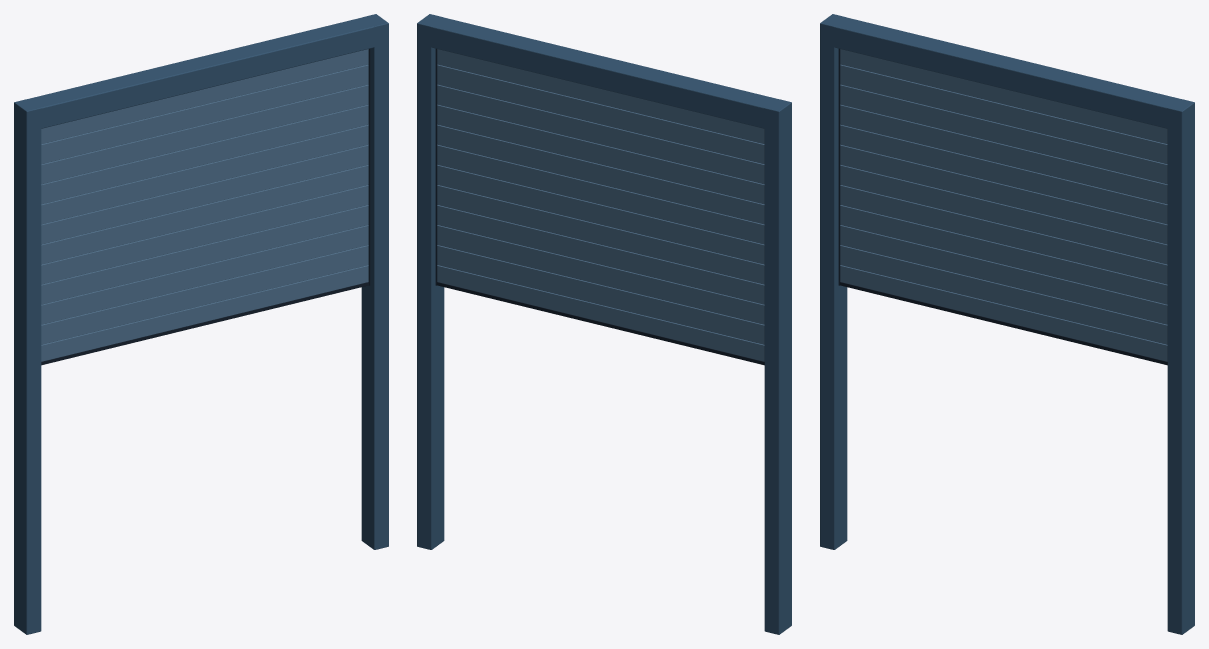
The model's file is SM_GHS_V2DockDoor.fbx.
The picture shows the model from 3 angles, left to right: view 1: azimuth 30°, elevation 25°; view 2: azimuth 150°, elevation 25°; view 3: azimuth 330°, elevation 25°; orthographic projection.
Parts seen in each view (by area): view 1: SM_GHS_V2DockDoor; view 2: SM_GHS_V2DockDoor; view 3: SM_GHS_V2DockDoor.
Part boxes in pixels (left/top/right/bottom): SM_GHS_V2DockDoor: left=14, top=14, right=388, bottom=634; SM_GHS_V2DockDoor: left=417, top=14, right=791, bottom=634; SM_GHS_V2DockDoor: left=820, top=14, right=1194, bottom=634.
Bounding box in the file's own units: 304 × 18.77 × 420.
